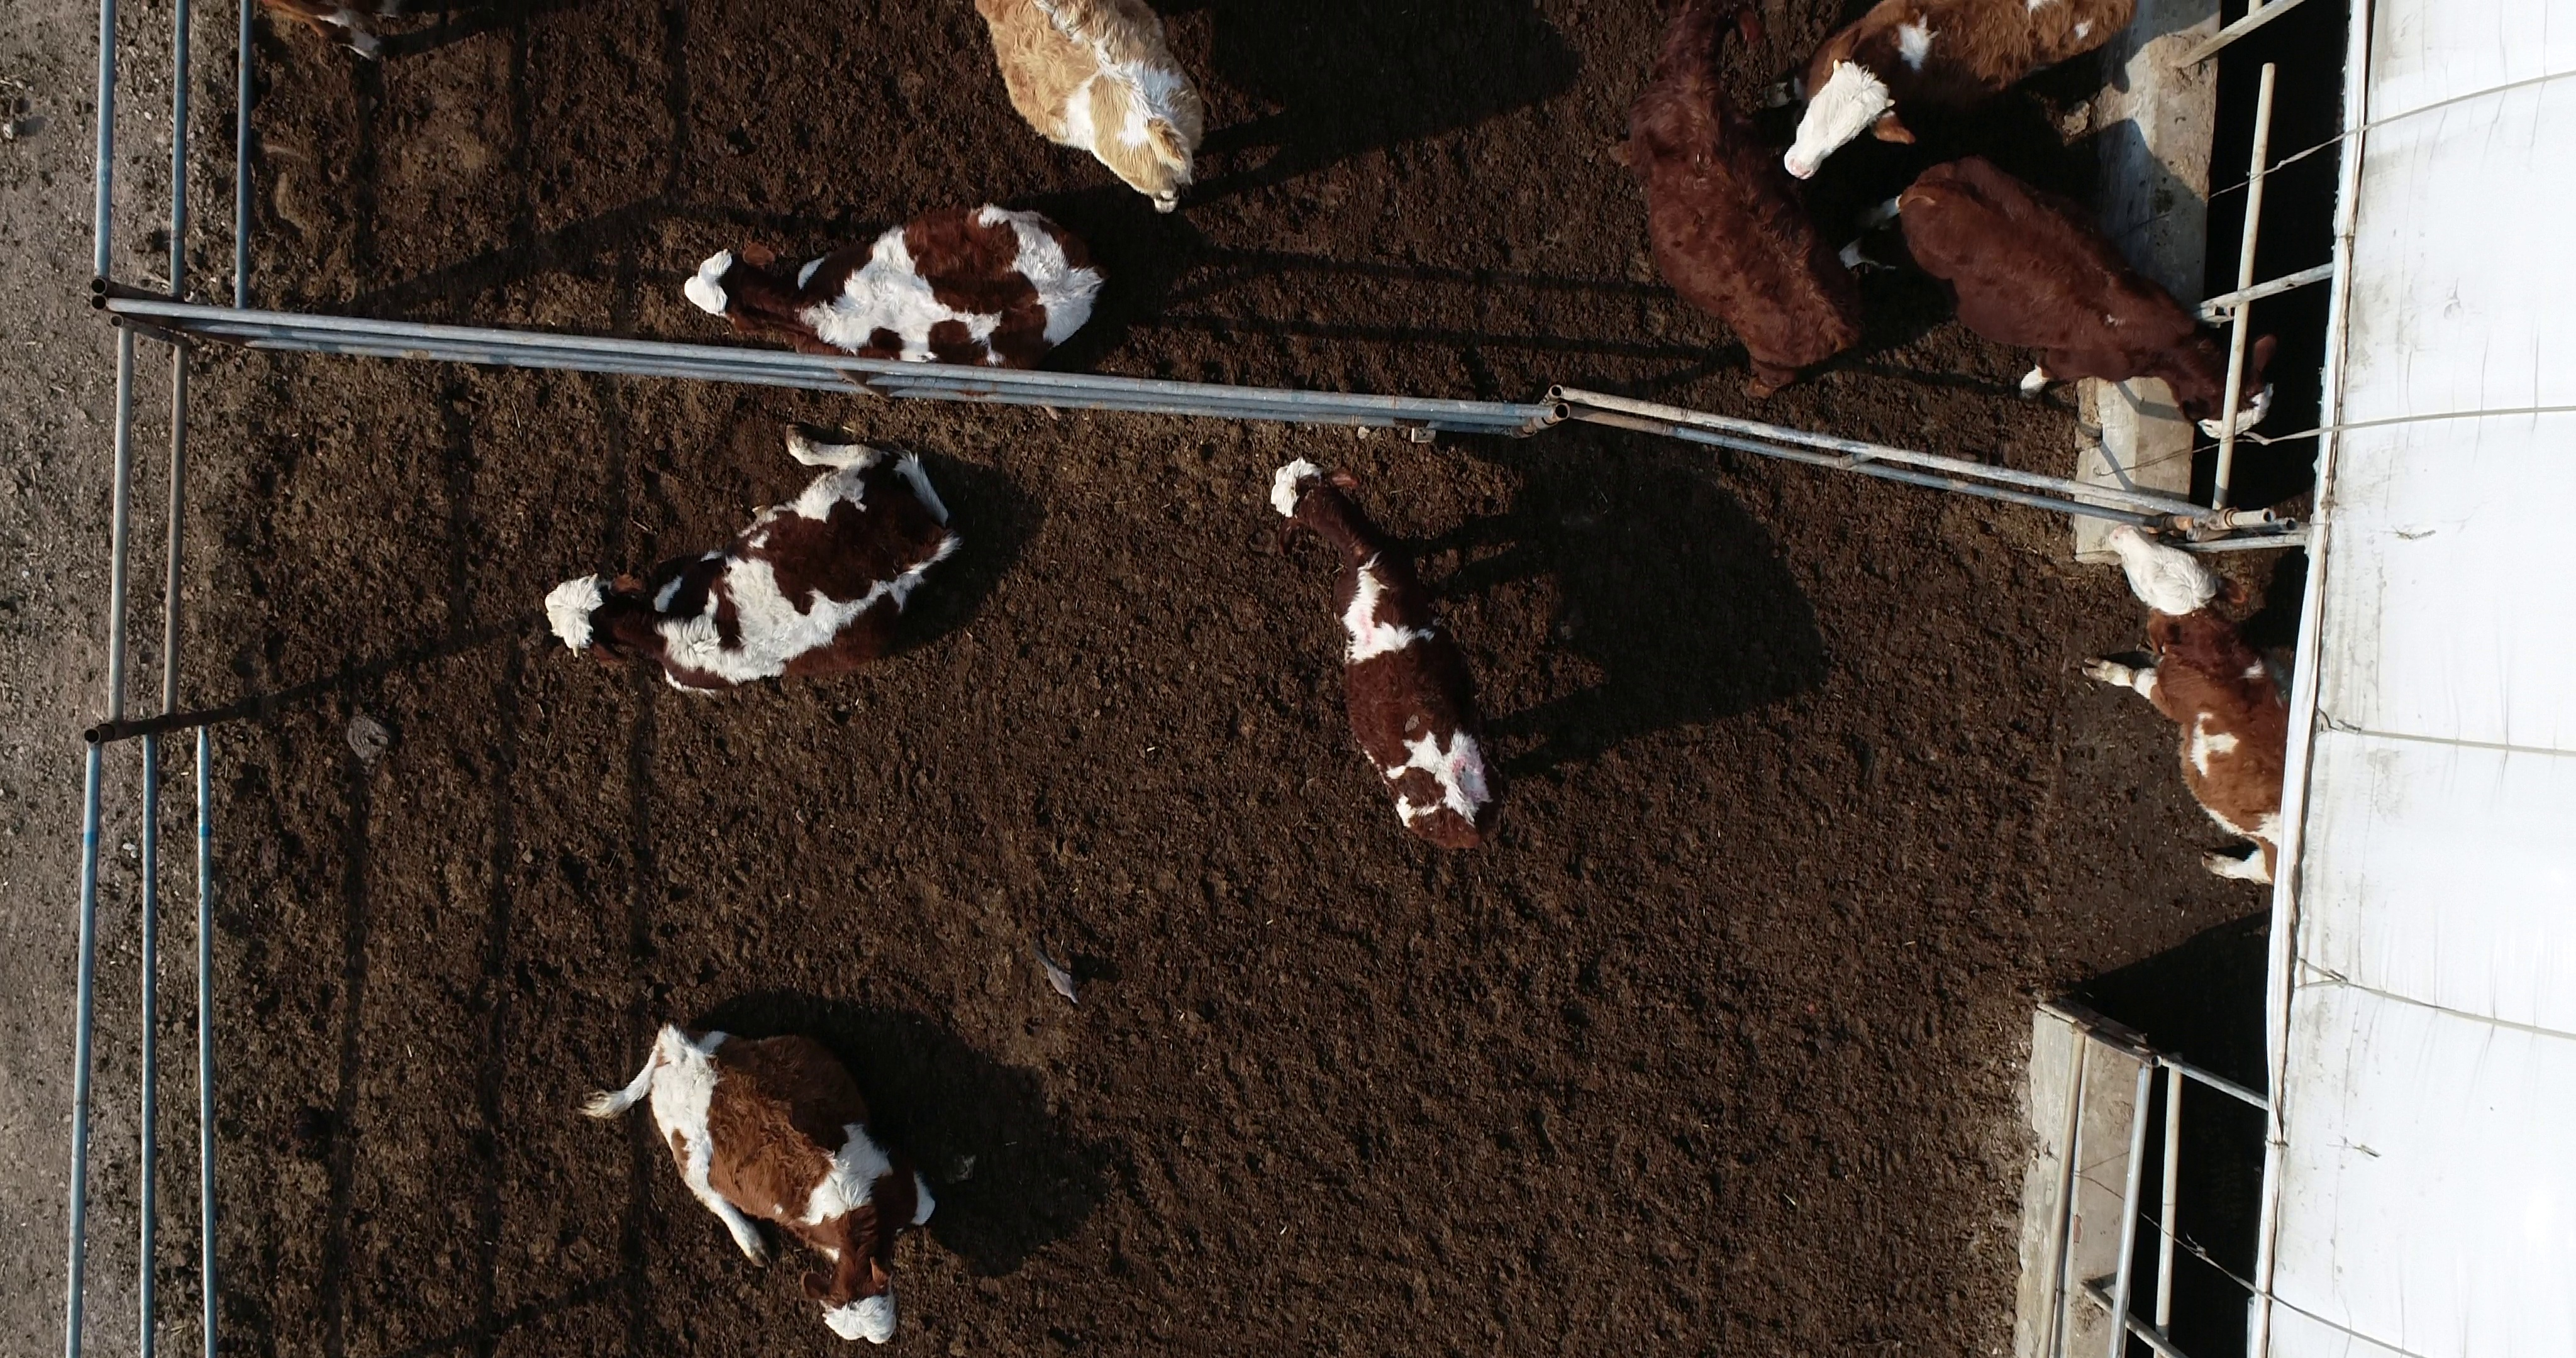cattle: (1830, 143, 2281, 450), (566, 1005, 957, 1348), (535, 419, 973, 700), (1266, 452, 1515, 860), (671, 196, 1101, 383)
